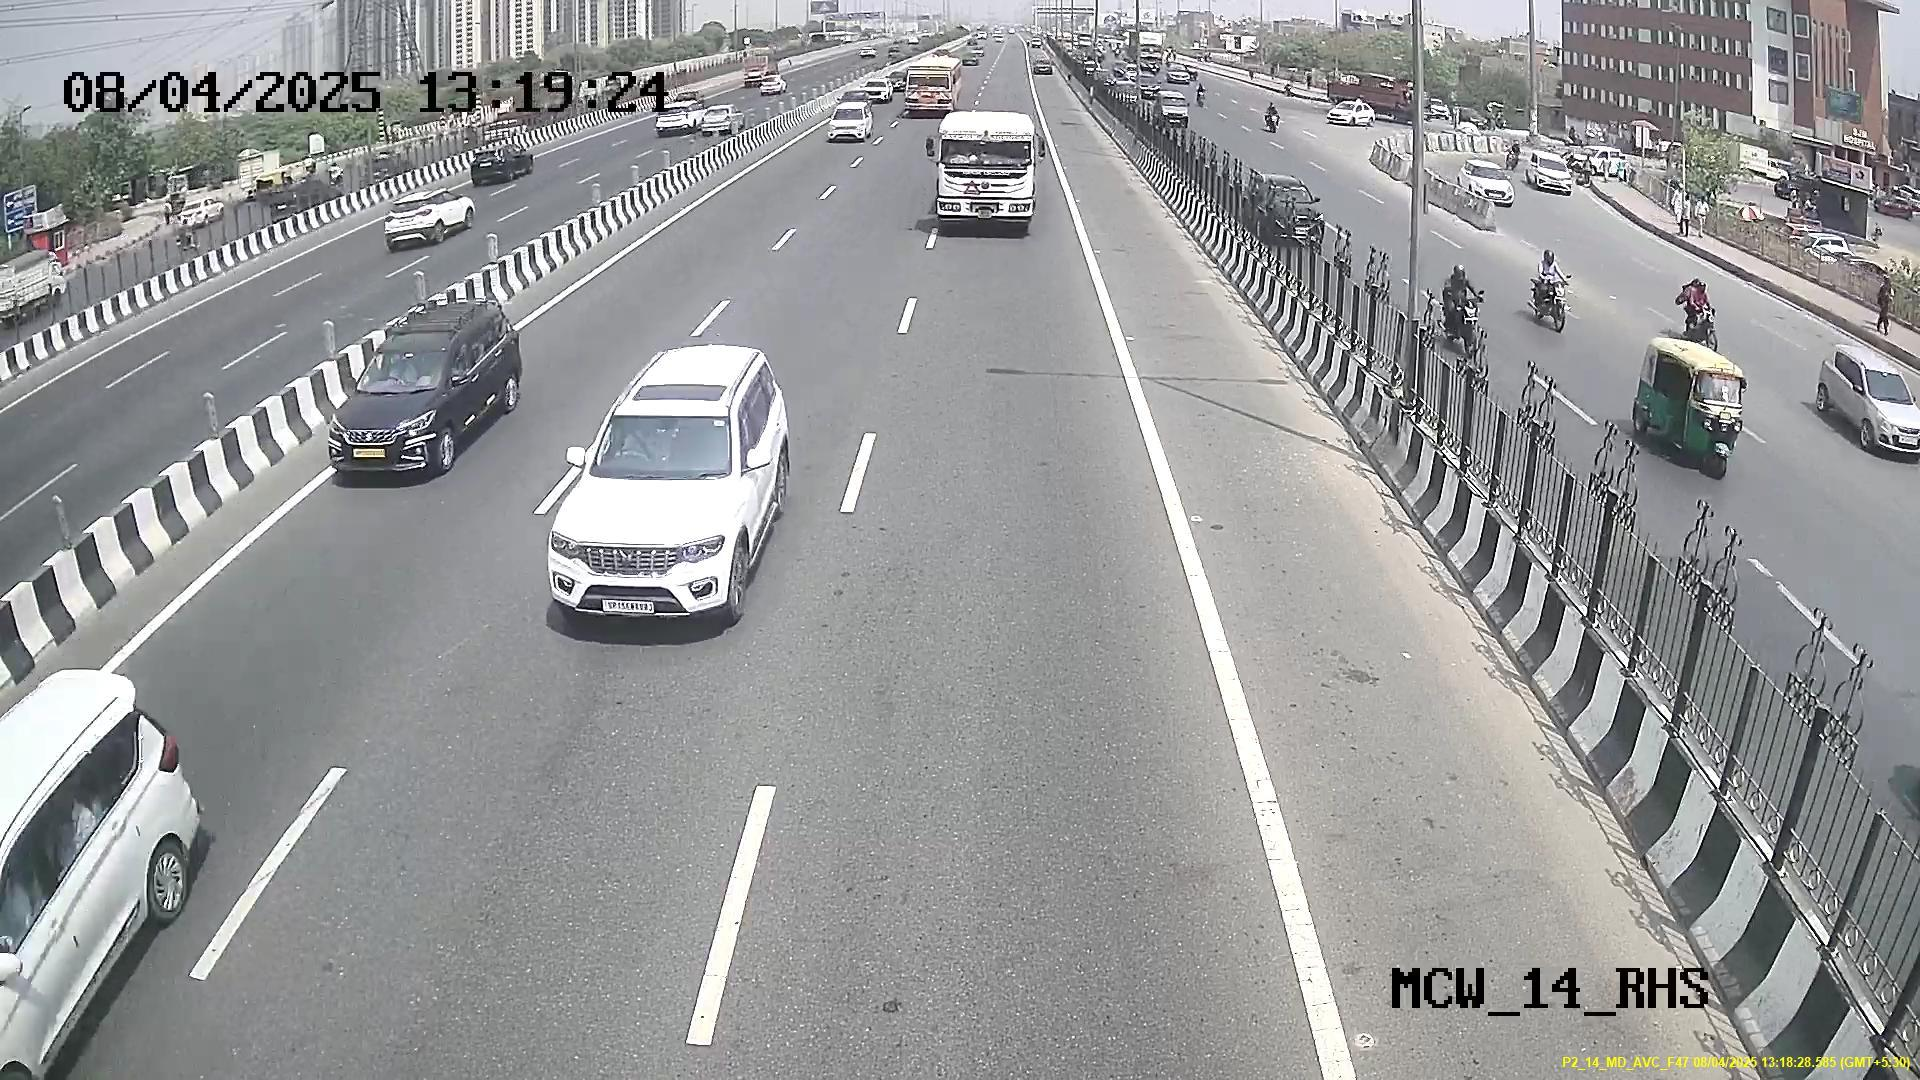car: (546, 375, 770, 630), (327, 293, 531, 485)
truck: (928, 117, 1038, 233)
